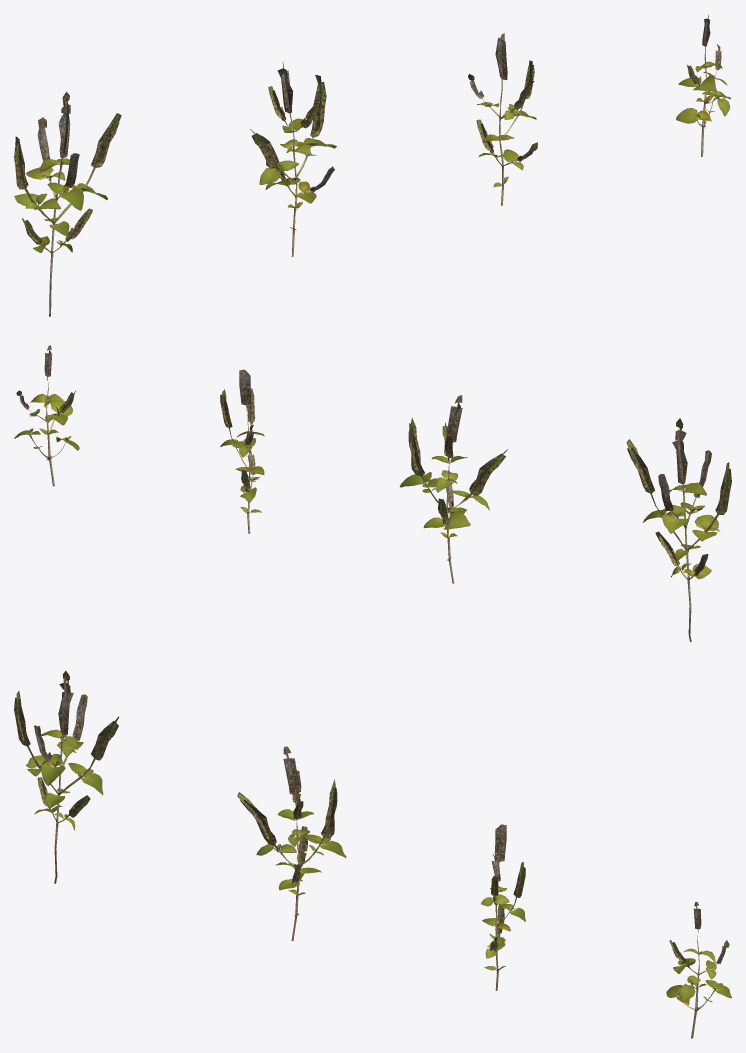
Rendered from shrub_03_lite.glb.
3 views of the same model, one above another, from view 1: azimuth 30°, elevation 25°; view 2: azimuth 150°, elevation 25°; view 3: azimuth 330°, elevation 25° (orthographic). The views are drawn at different scales.
Parts seen in each view (by area): view 1: shrub_03_a; view 2: shrub_03_a; view 3: shrub_03_a.
Part boxes in pixels (x1,y1,x2,y2): shrub_03_a: [14, 15, 731, 316]; shrub_03_a: [14, 345, 731, 641]; shrub_03_a: [14, 670, 731, 1038].
Bounding box in the file's own units: 1.37 × 0.4028 × 0.1512.
Materials: 1 (1 with a texture image).
